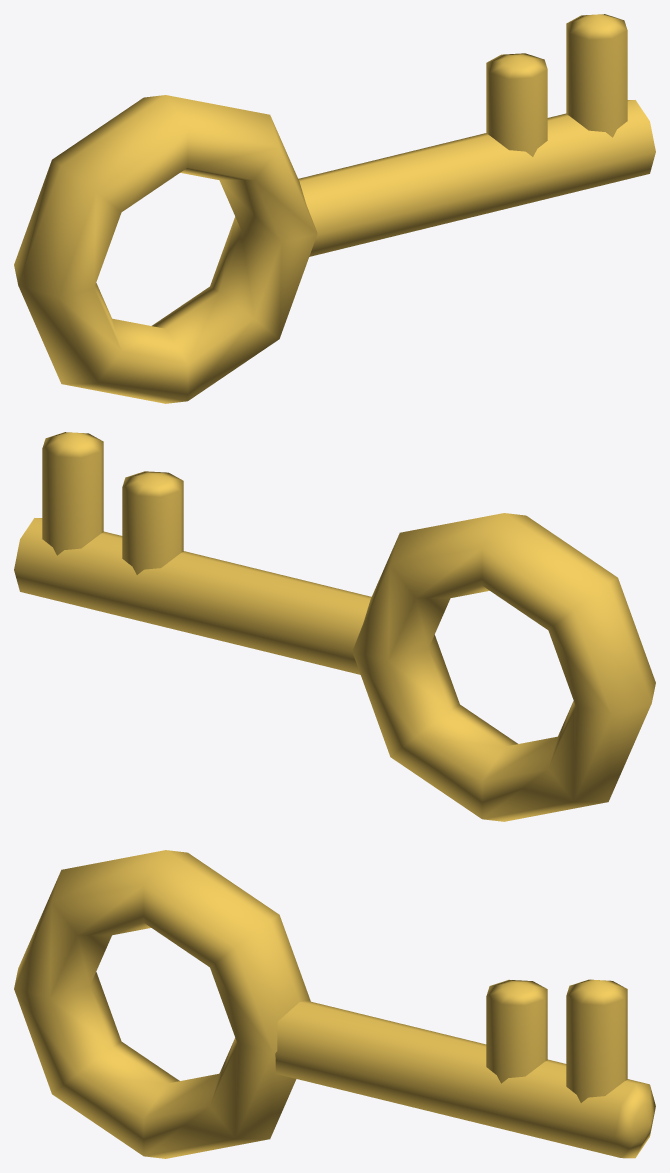
File: SM_key.fbx
The picture shows the model from 3 angles, top to bottom: view 1: azimuth 30°, elevation 25°; view 2: azimuth 150°, elevation 25°; view 3: azimuth 330°, elevation 25°; orthographic projection.
Visible parts, largest first — view 1: key; view 2: key; view 3: key.
Boxes of the visible parts, x1=… form: key: x1=14, y1=14, x2=655, y2=403; key: x1=14, y1=432, x2=655, y2=821; key: x1=14, y1=850, x2=655, y2=1158.
Size of the model in its own units: 97.86 by 45.66 by 11.86.
